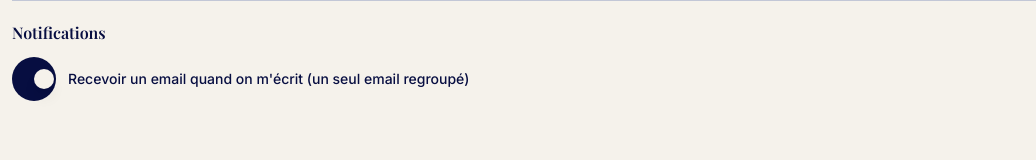
it: message email preference › keeps the previously saved preference on failure
Click the switch at (34,79), box [12,57,56,101]
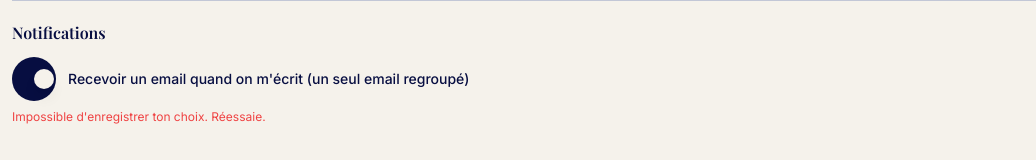
Now the message "Impossible d'enregistrer ton choix. Réessaie." is shown, box [12,109,266,124]
